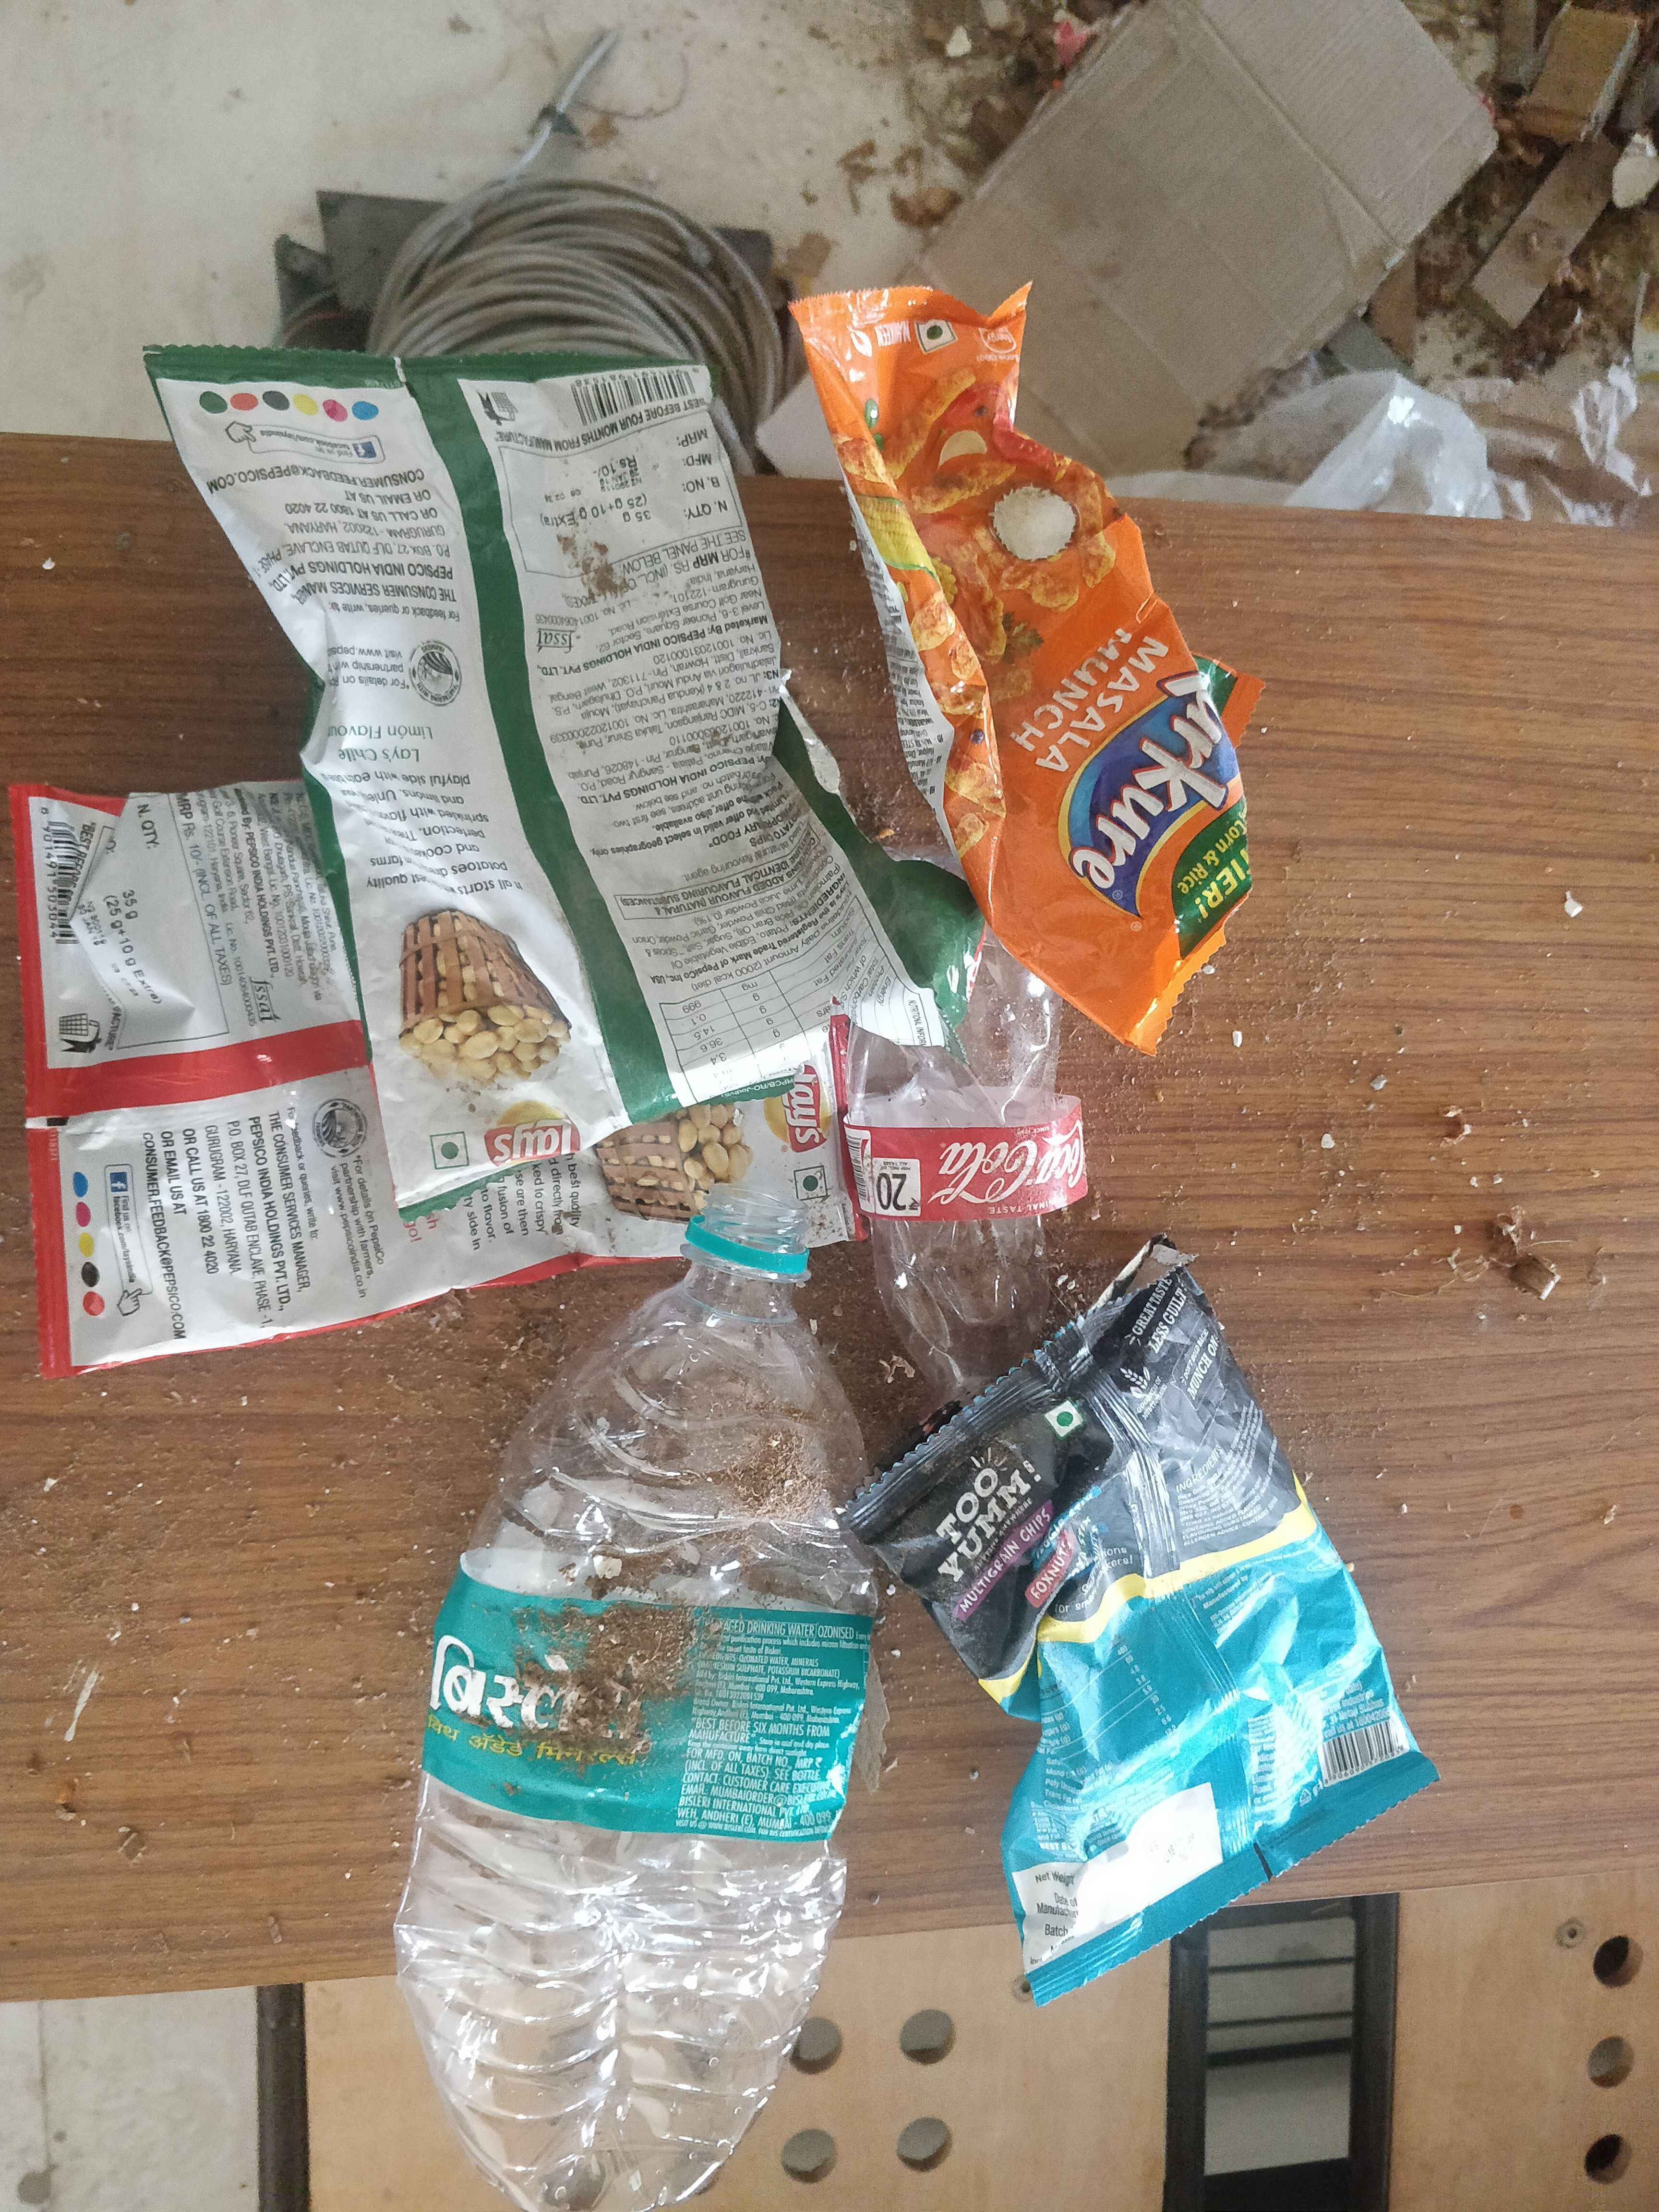Bisleri: (443, 1585, 850, 1817)
Coca-Cola: (880, 1111, 1096, 1224)
Lays: (744, 1055, 875, 1183), (465, 1111, 599, 1162)
kurkure: (1049, 662, 1248, 925)
tooyumm: (925, 1426, 1060, 1629)
